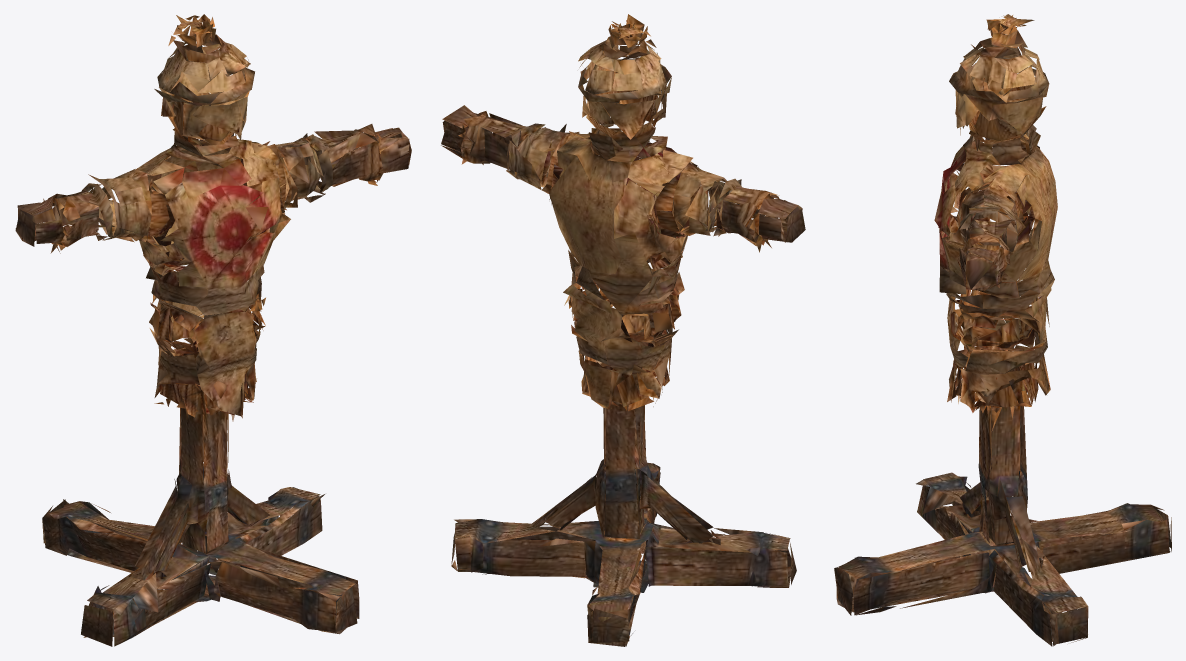
File: boneco_lod1.glb
The picture shows the model from 3 angles, left to right: view 1: azimuth 30°, elevation 25°; view 2: azimuth 150°, elevation 25°; view 3: azimuth 270°, elevation 25°; orthographic projection. The views are drawn at different scales.
Parts seen in each view (by area): view 1: boneco; view 2: boneco; view 3: boneco.
Boxes of the visible parts, x1=… form: boneco: x1=15, y1=14, x2=411, y2=646; boneco: x1=441, y1=14, x2=805, y2=646; boneco: x1=834, y1=14, x2=1171, y2=646.
Size of the model in its own units: 1.29 by 1.91 by 1.04.
1 material, 1 textured.
